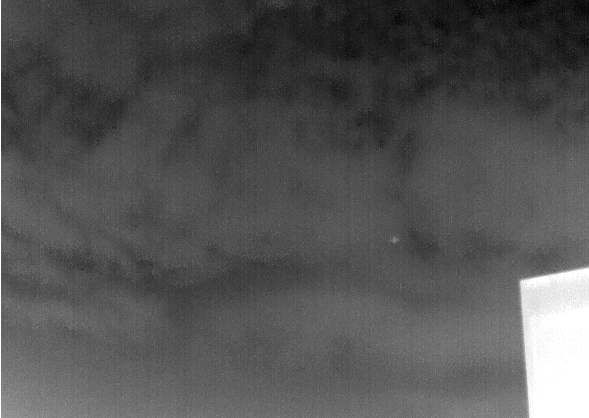dim target: (388, 236, 400, 244)
